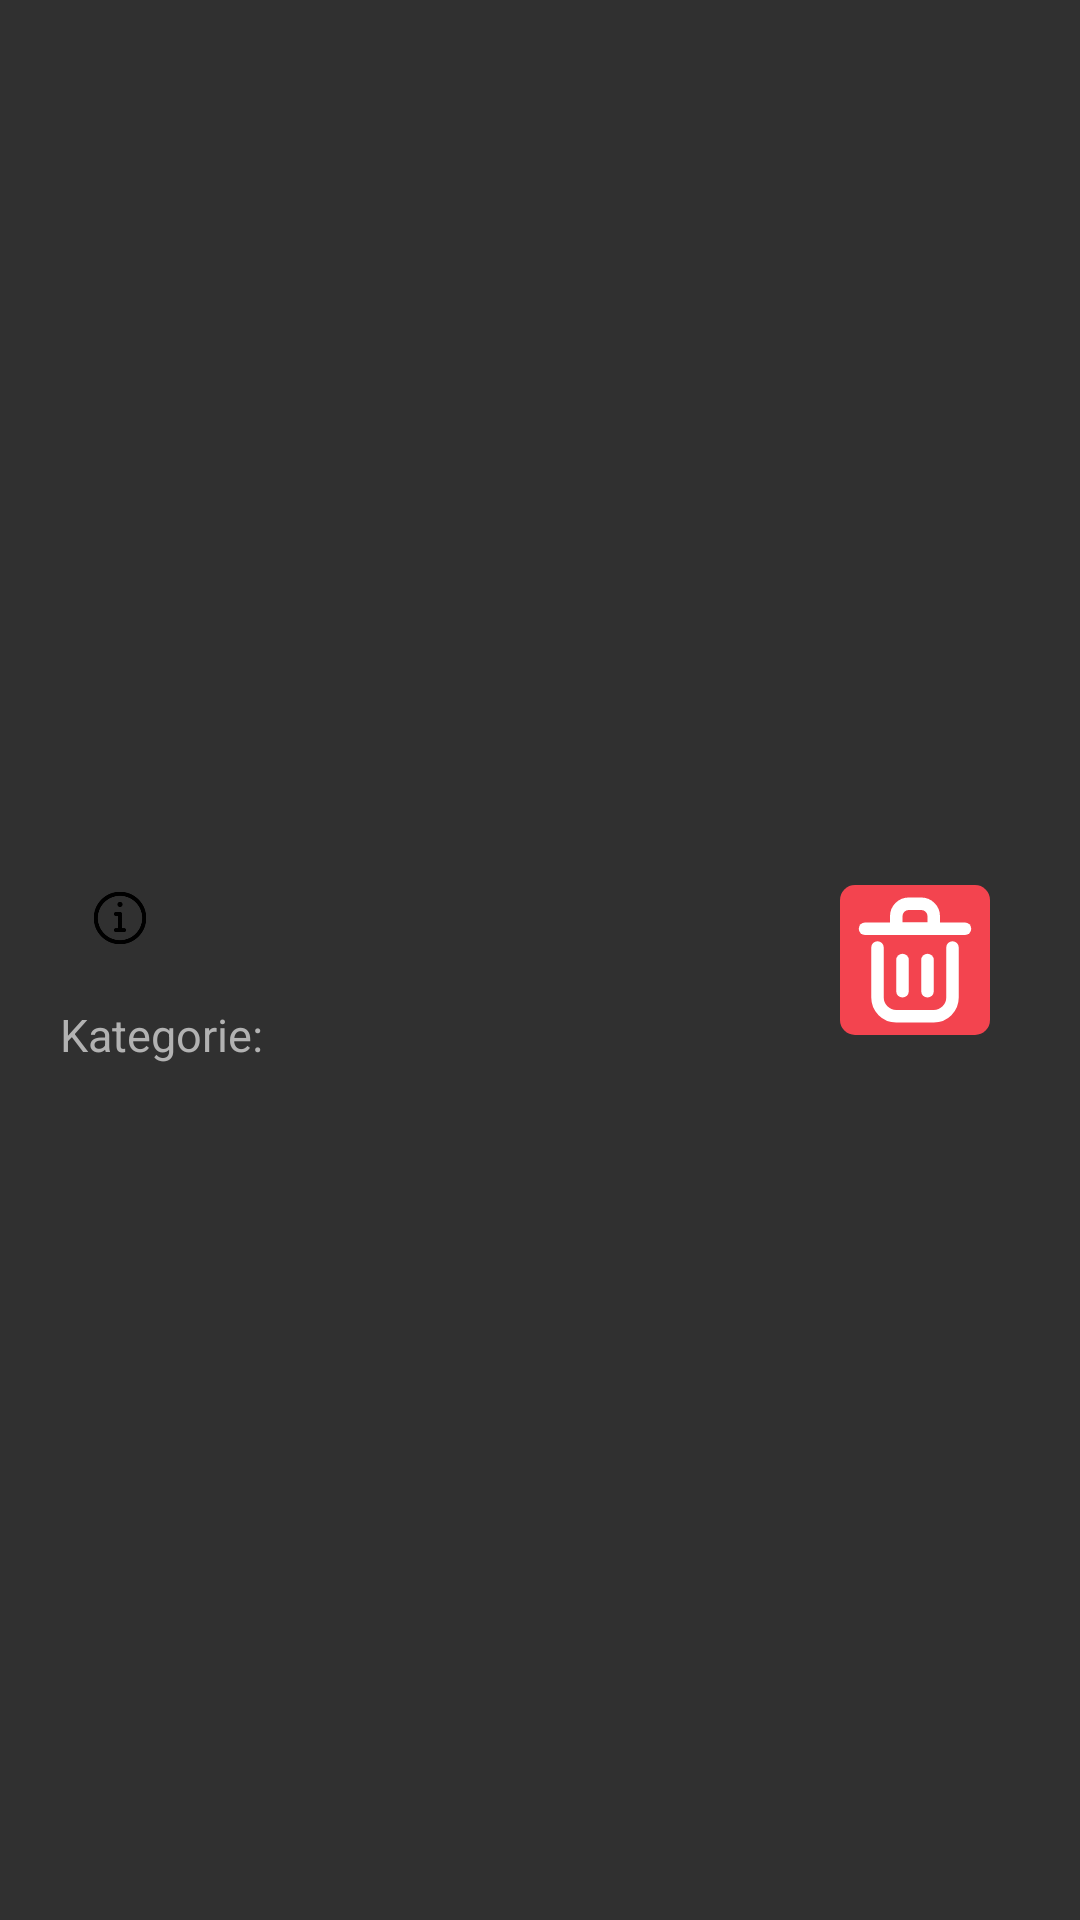

Named icons in this screenshot (1080px×1920px) and their centers, point (x, y):
deletelist: point (915, 960)
little info: point (120, 918)
